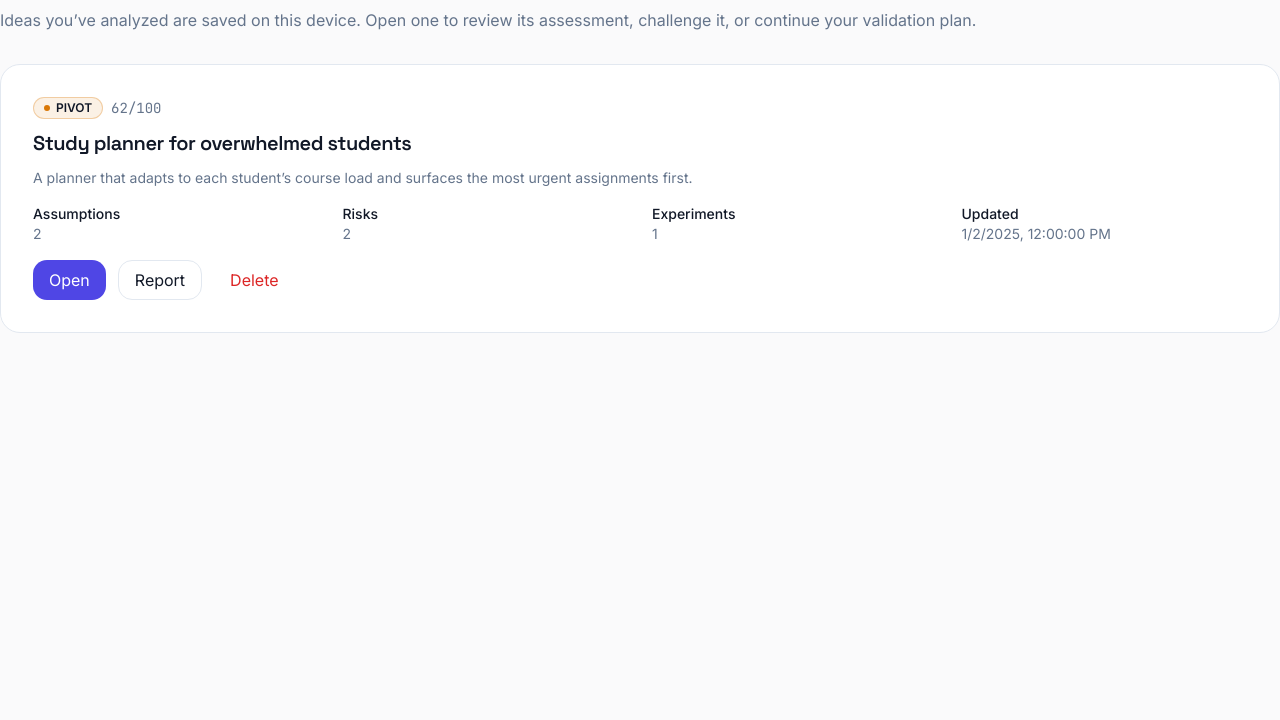
it: HistoryList › deletes a record after confirmation
Click the button "Delete". click: (254, 280)
box: [214,260,295,300]
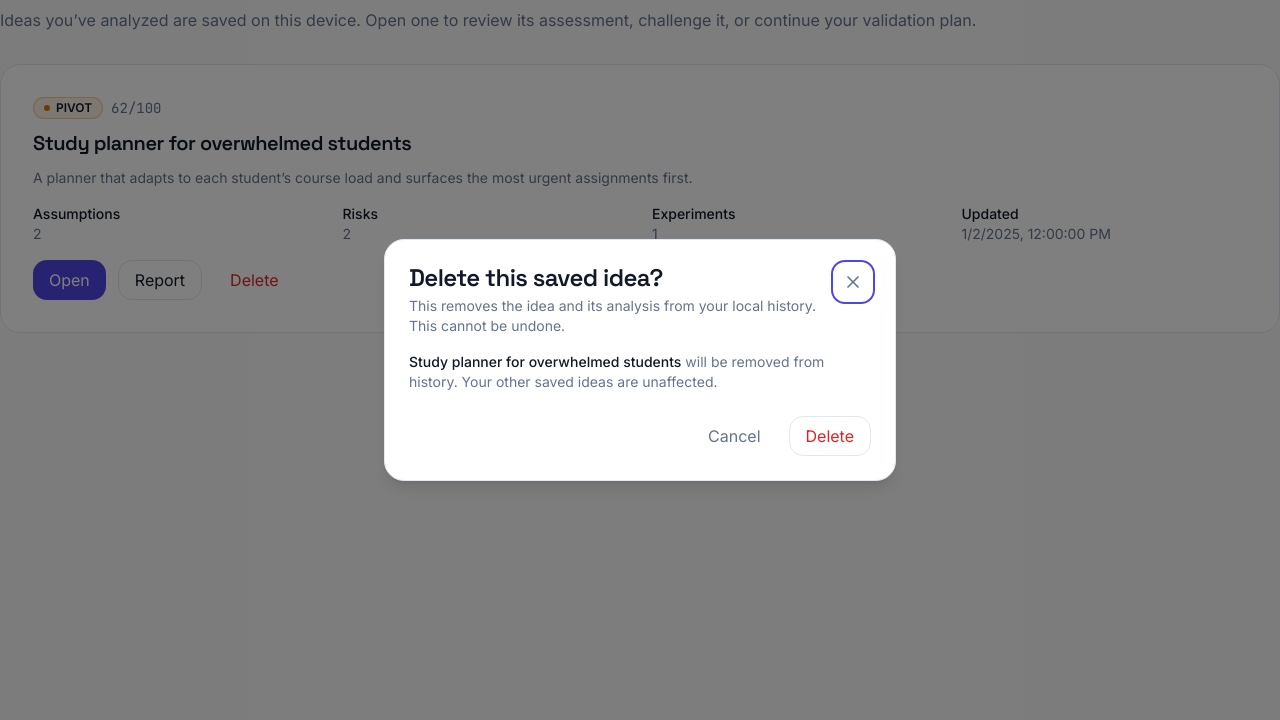
Expected: the heading "Delete this saved idea?" is shown, [409,262,663,293]
Click the button "Cancel". click: (734, 436)
box: [692,416,776,456]
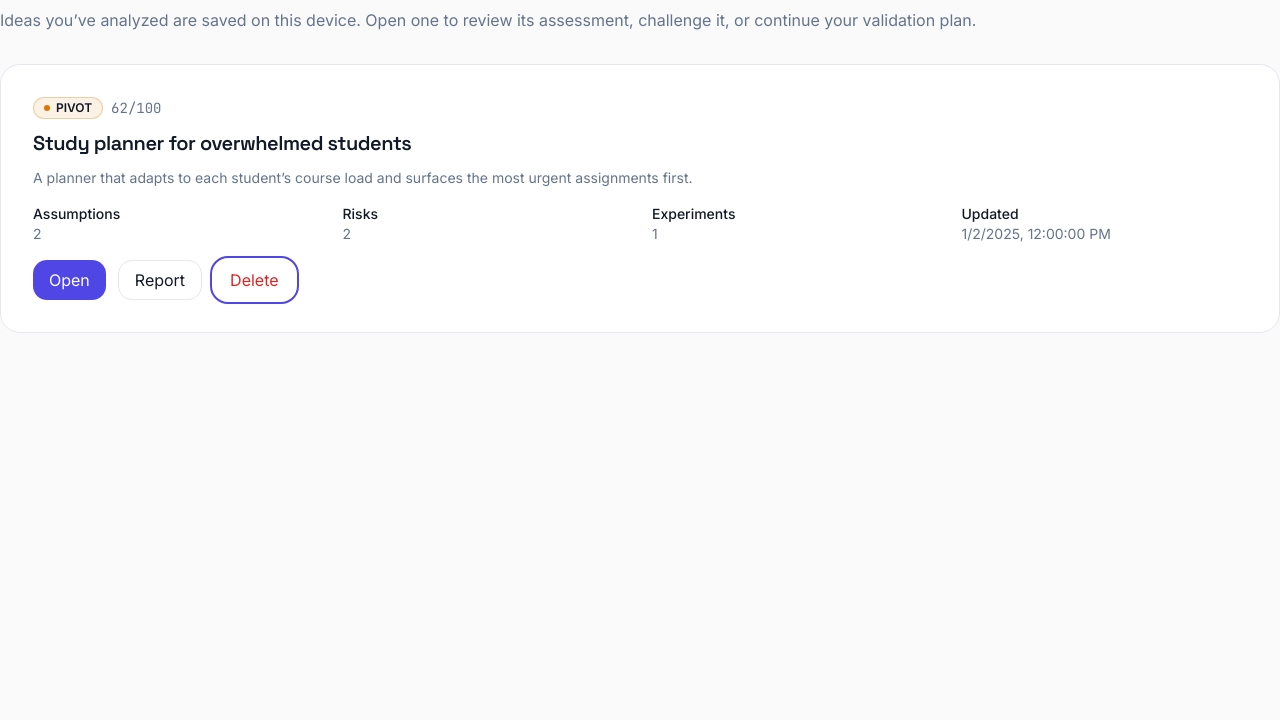
Expected: the heading "Study planner for overwhelmed students" is shown, [33,130,411,156]
Expected: the dialog is gone
Click the button "Delete". click: (254, 280)
box: [214,260,295,300]
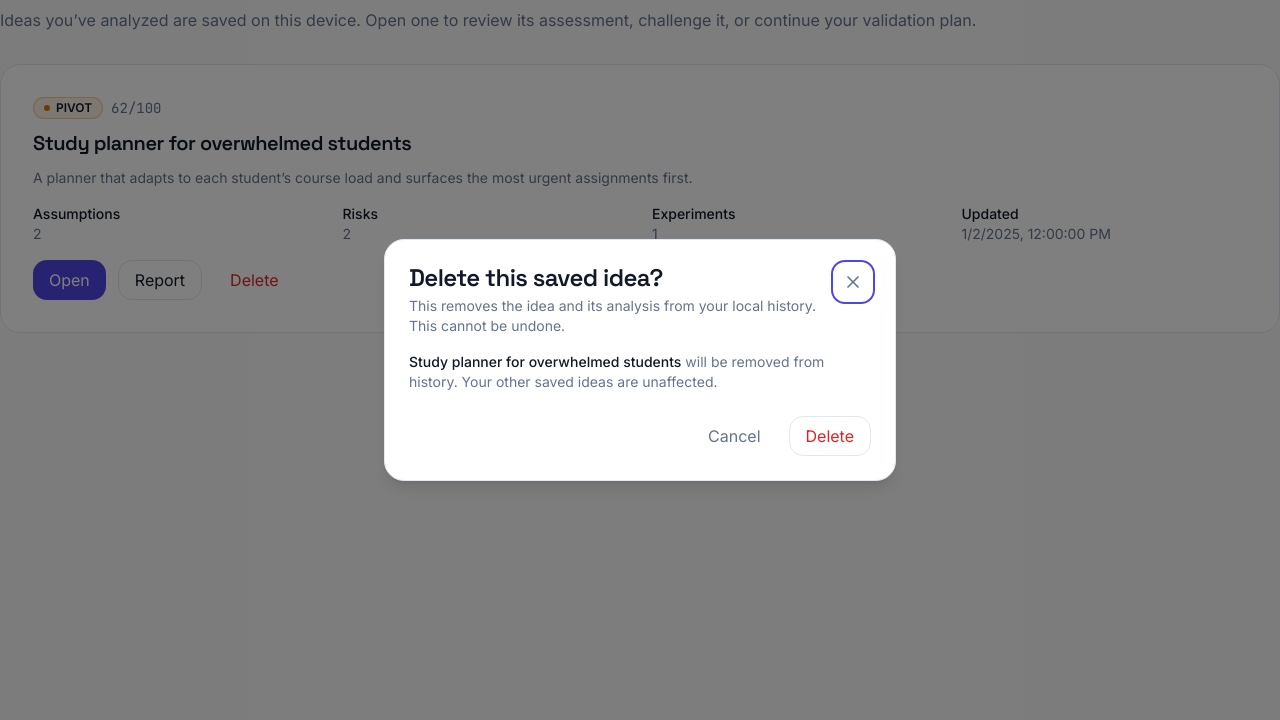
Click the button "Delete". click: (830, 436)
box: [788,416,871,456]
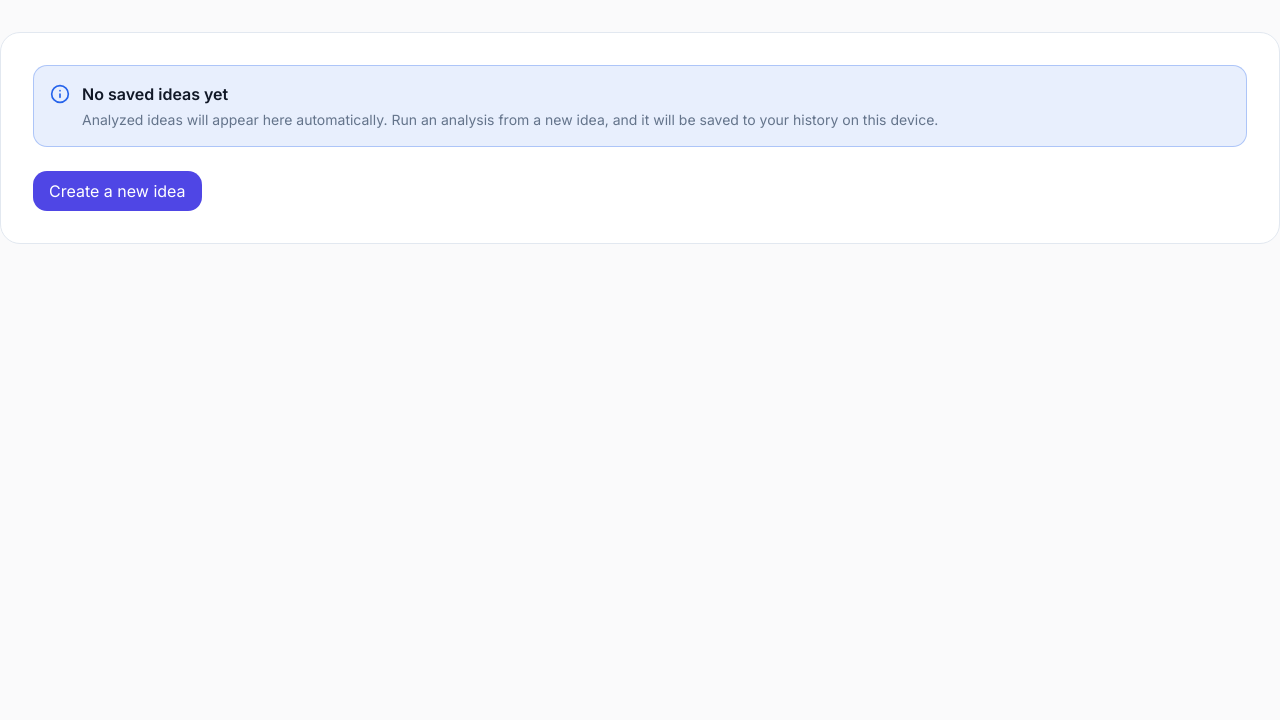
Expected: the dialog is gone
Expected: the text "No saved ideas yet" is shown, [82,84,228,104]
